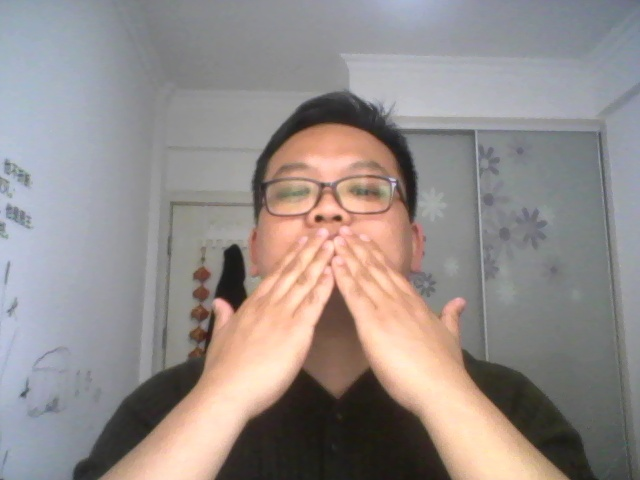Thank You: (183, 225, 491, 417)
